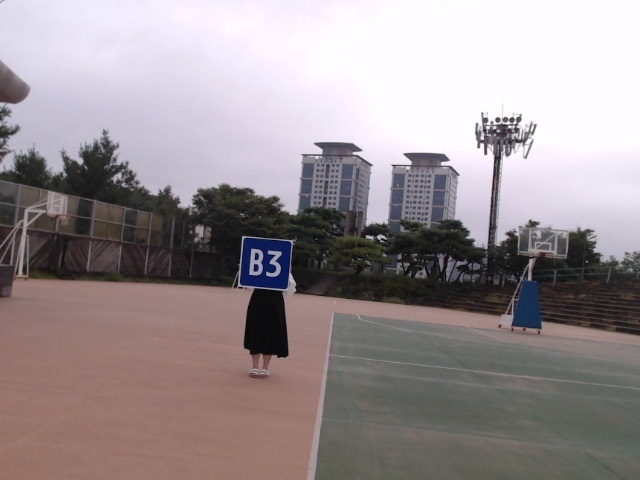delivery_b3: (239, 235, 292, 291)
